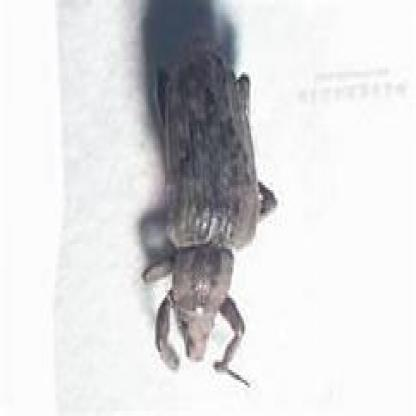rice-bug: (138, 45, 276, 380)
